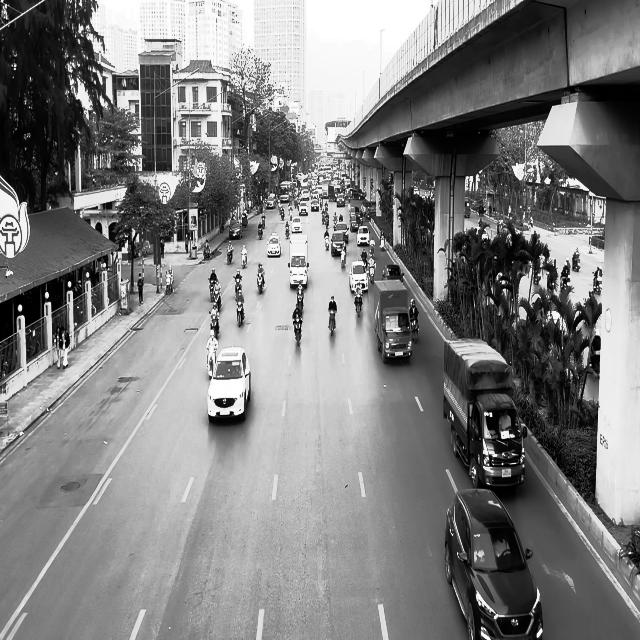bus: (464, 197, 471, 217)
car: (444, 488, 543, 639), (207, 346, 251, 423), (288, 252, 309, 288), (349, 260, 368, 293), (382, 264, 404, 283), (267, 232, 281, 257), (229, 220, 242, 239)
motorbike: (206, 339, 218, 379), (293, 313, 302, 346), (209, 310, 219, 338), (354, 288, 363, 317), (592, 269, 602, 295), (236, 296, 244, 326), (328, 309, 336, 336), (411, 316, 419, 342), (256, 272, 265, 294), (234, 275, 242, 297), (226, 244, 233, 264), (340, 246, 346, 268), (324, 230, 329, 250), (241, 252, 247, 268), (258, 222, 262, 239)
truck: (442, 336, 527, 489), (373, 279, 412, 363)
